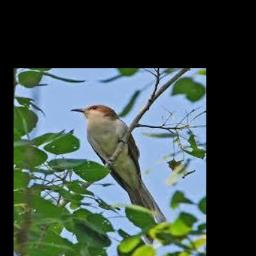Cuckoo: (70, 104, 168, 243)
